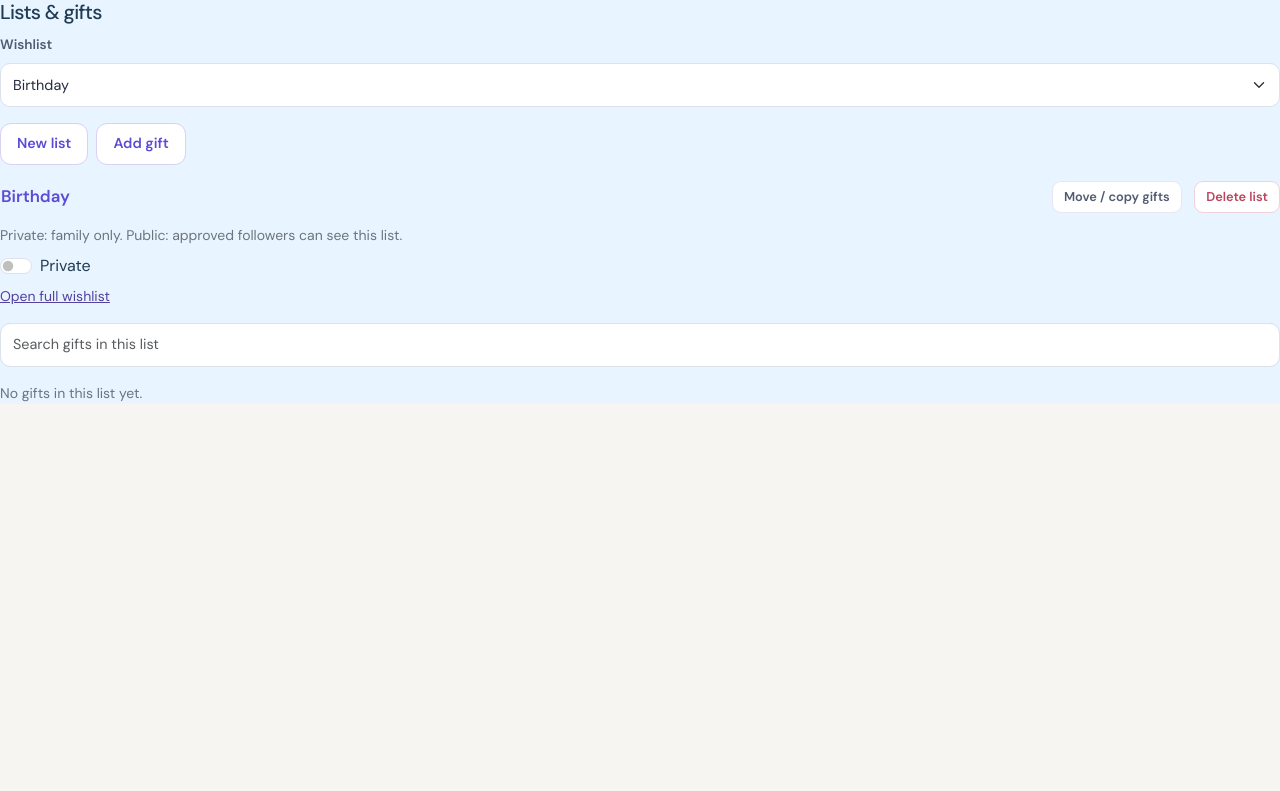
adds a gift directly to the selected list and resets the form when switching lists
Click the button "Add gift" at (141, 144), box [96,123,186,165]
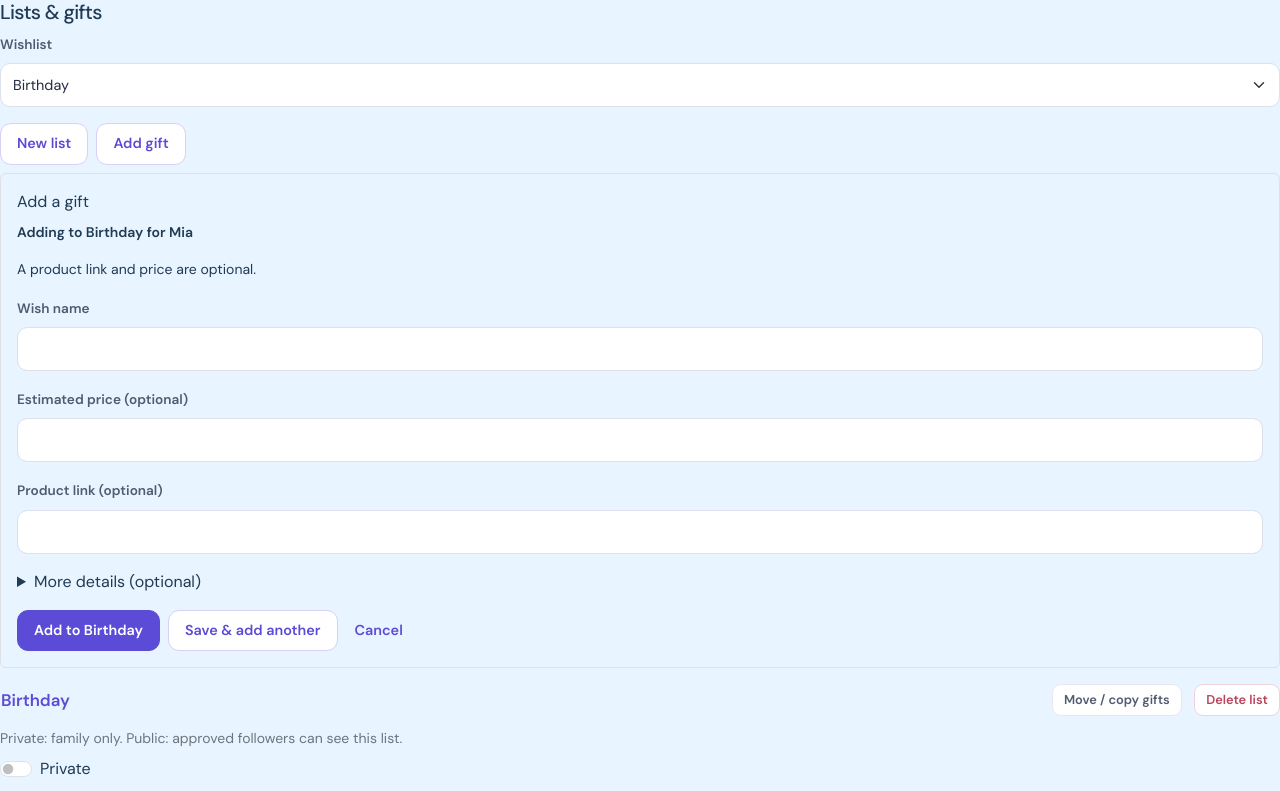
Type "Unfinished birthday idea" into the field labelled "Wish name" at (640, 349), box [17,327,1263,371]
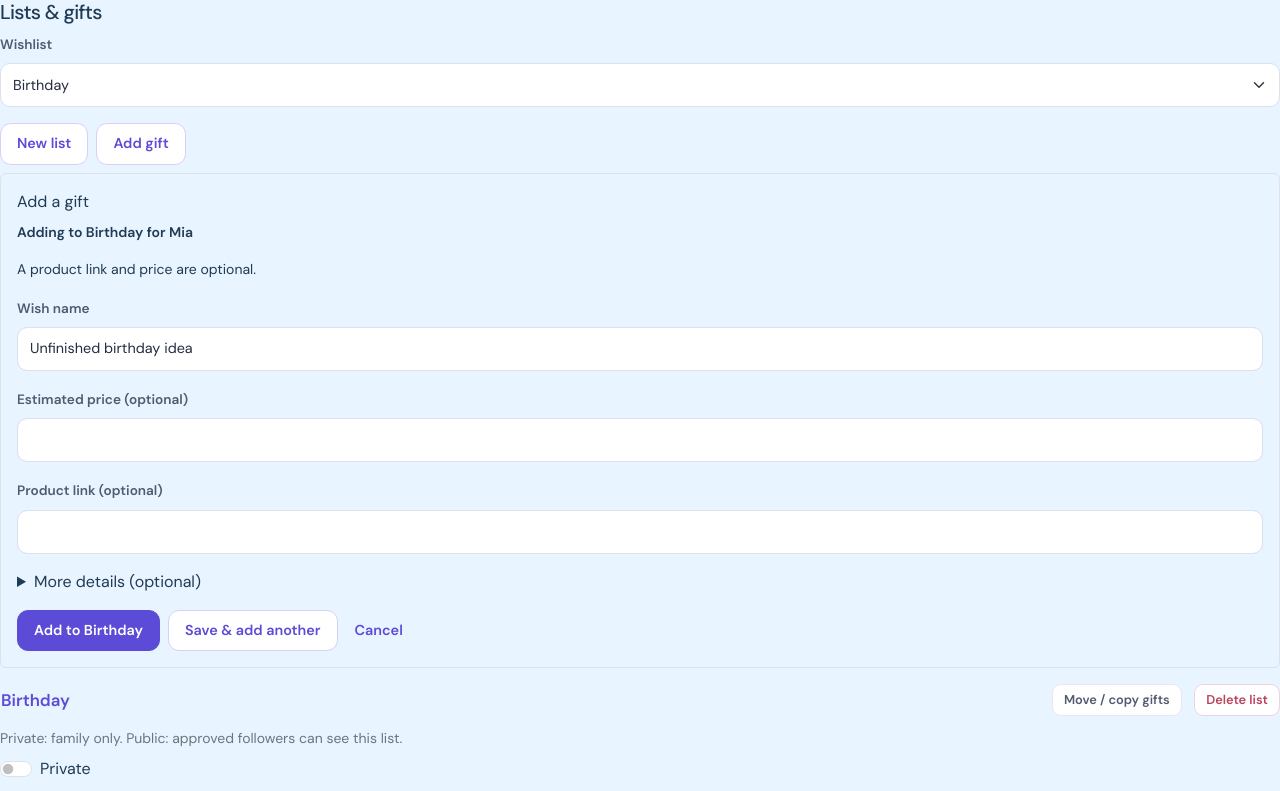
Select "Christmas" in the dropdown labelled "Wishlist" at (640, 85), box [0,63,1279,107]
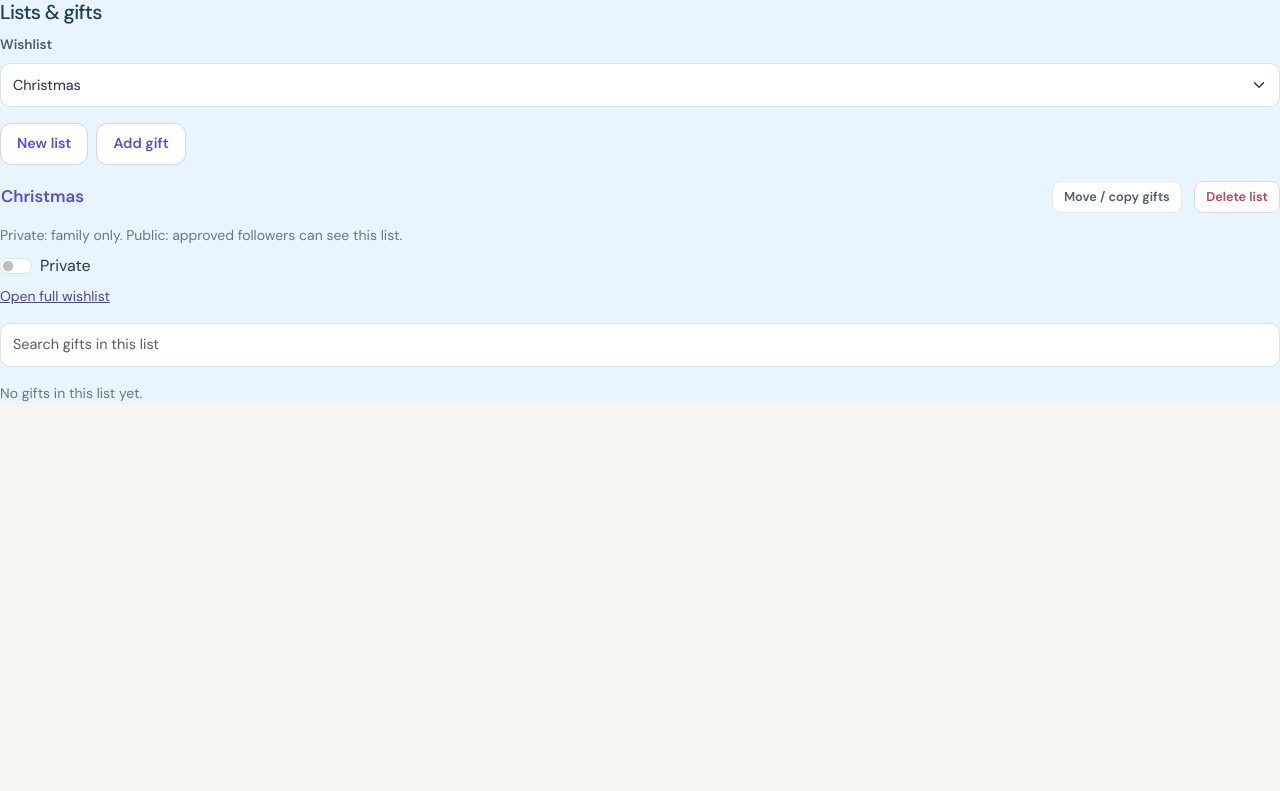
Now the label labelled "Wish name" is gone
Click the button "Add gift" at (141, 144), box [96,123,186,165]
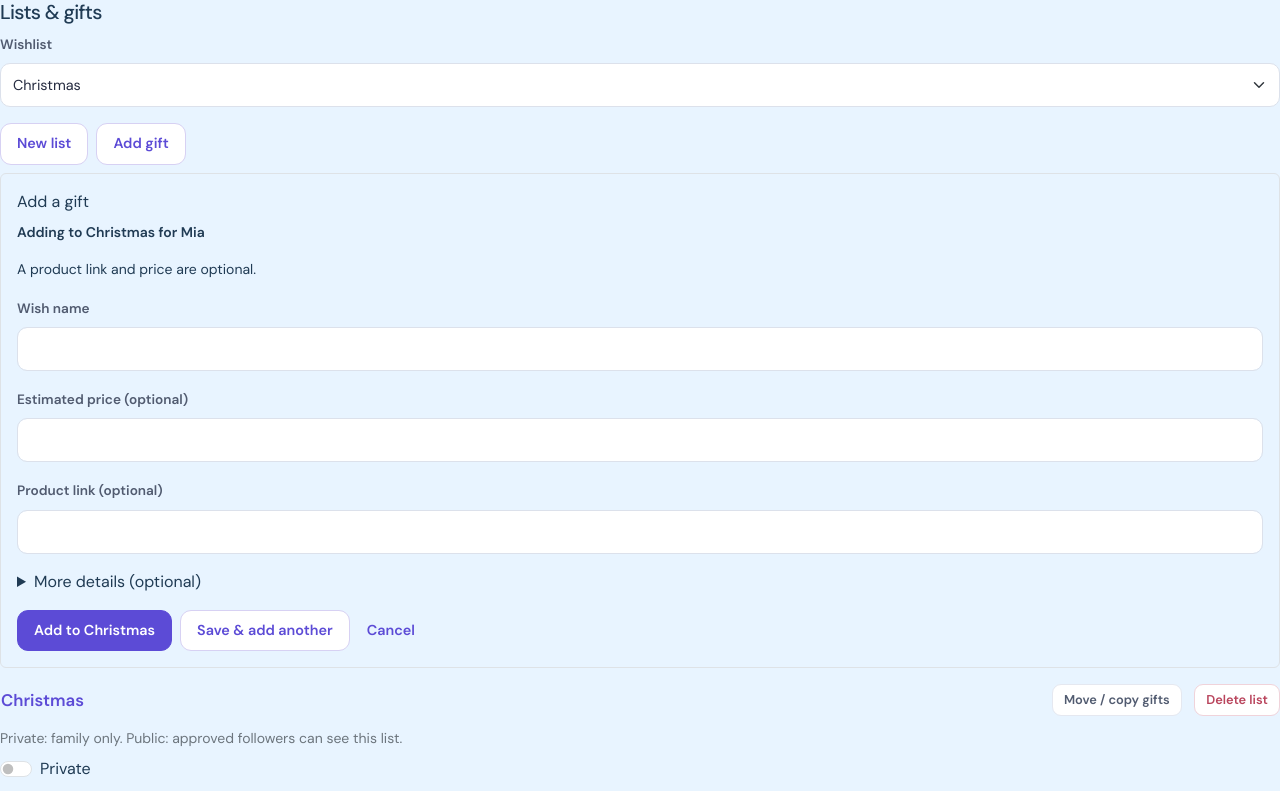
Now the field labelled "Wish name" is empty
Now the text "Adding to Christmas for Mia" is shown, box [17,223,205,241]
Type "Christmas puzzle" into the field labelled "Wish name" at (640, 349), box [17,327,1263,371]
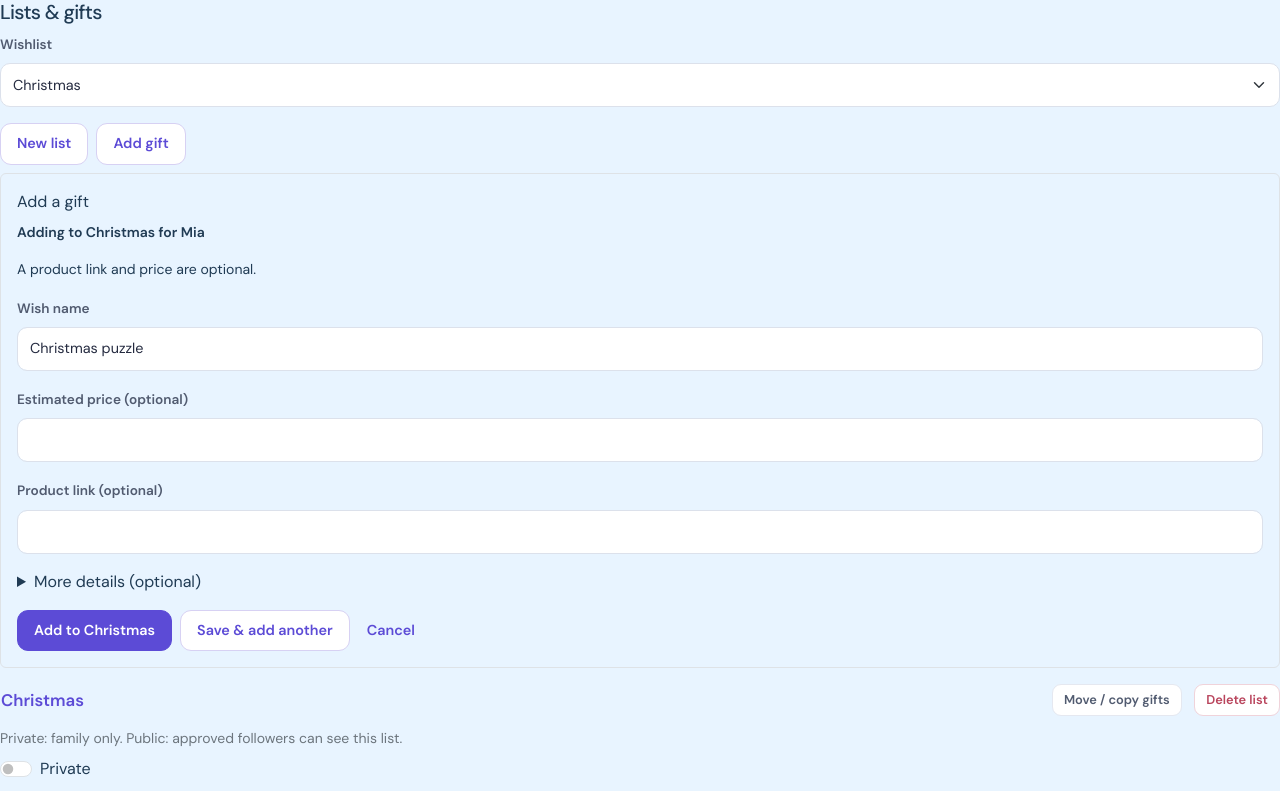
Click the button "Add to Christmas" at (95, 630), box [17,610,172,651]
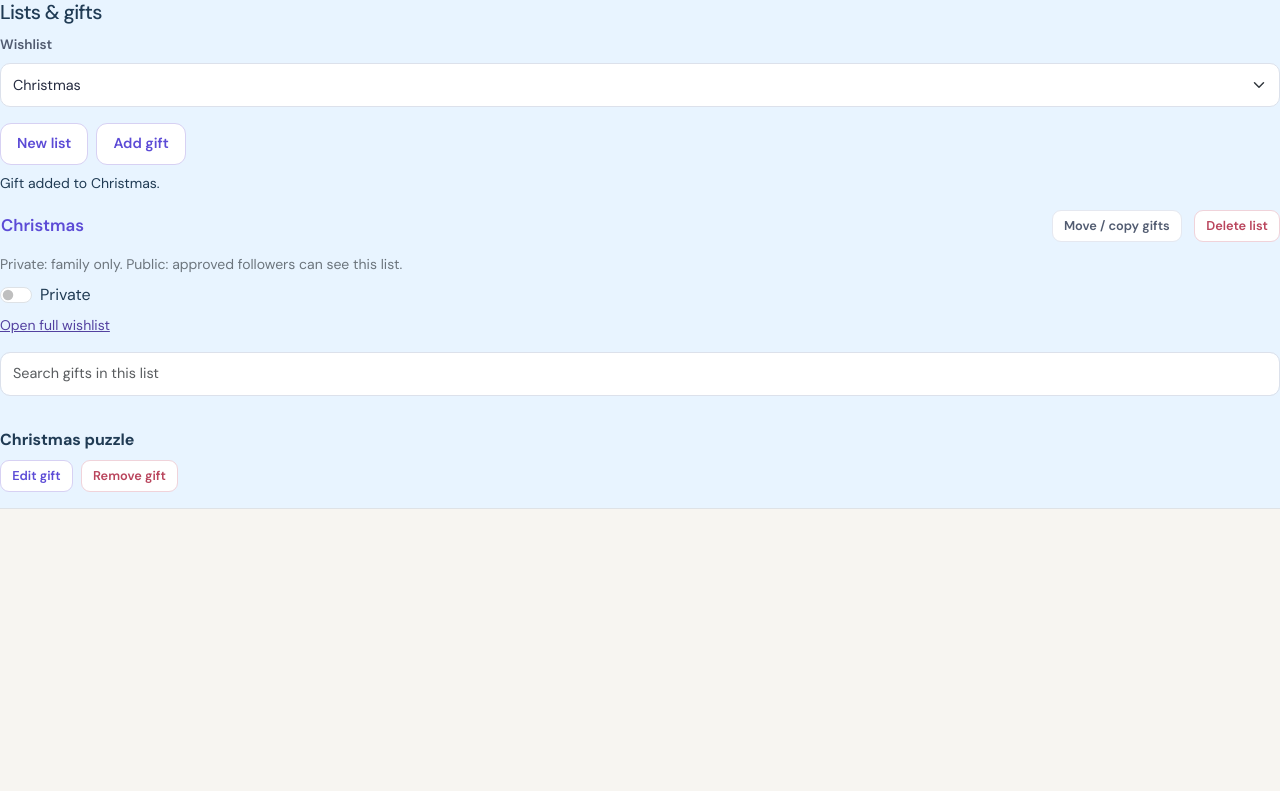
Now the message reads "Gift added to Christmas.", box [0,174,160,192]
Now the text "Christmas puzzle" is shown, box [0,429,134,450]
